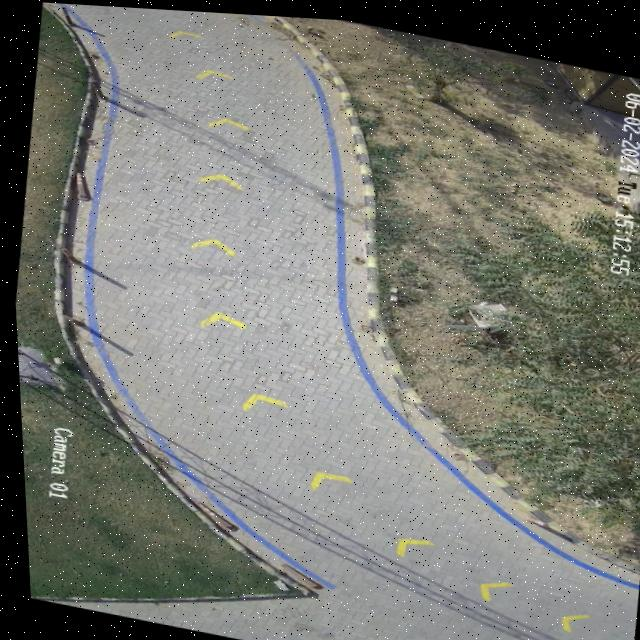No Car: (12, 2, 640, 640)
